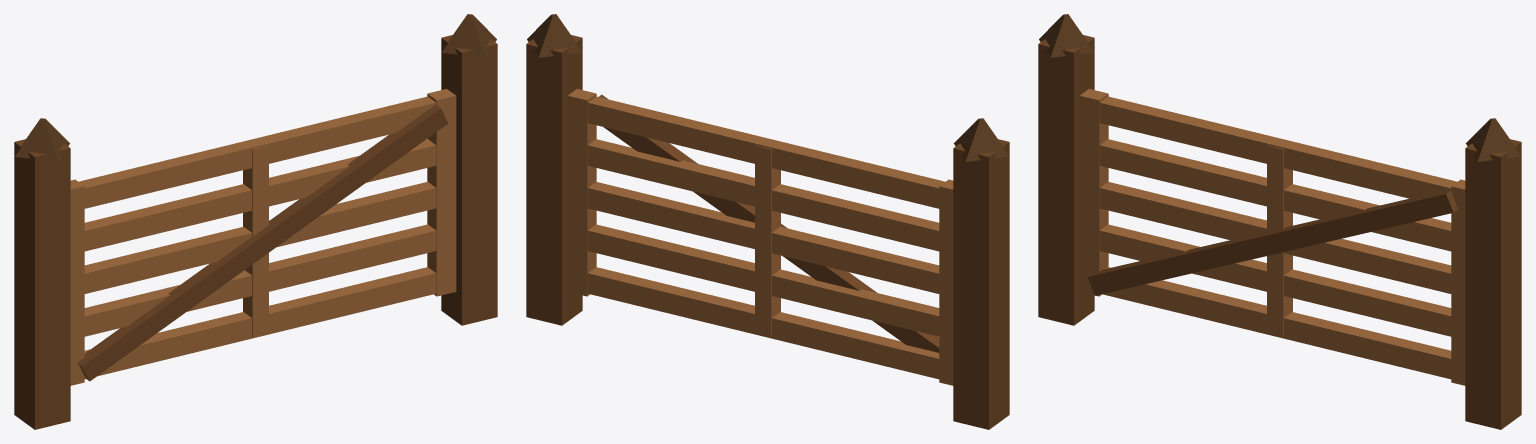
File: farm_gate.glb
3 renders of one model, left to right at view 1: azimuth 30°, elevation 25°; view 2: azimuth 150°, elevation 25°; view 3: azimuth 330°, elevation 25°, orthographic.
Parts seen in each view (by area): view 1: farm_gate; view 2: farm_gate; view 3: farm_gate.
Boxes of the visible parts, x1=… form: farm_gate: x1=14, y1=14, x2=497, y2=429; farm_gate: x1=526, y1=14, x2=1009, y2=429; farm_gate: x1=1038, y1=14, x2=1521, y2=429.
Size of the model in its own units: 2.96 by 1.75 by 0.34.
